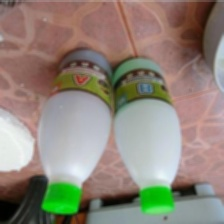insecticide: (34, 44, 113, 215), (110, 55, 183, 215)
